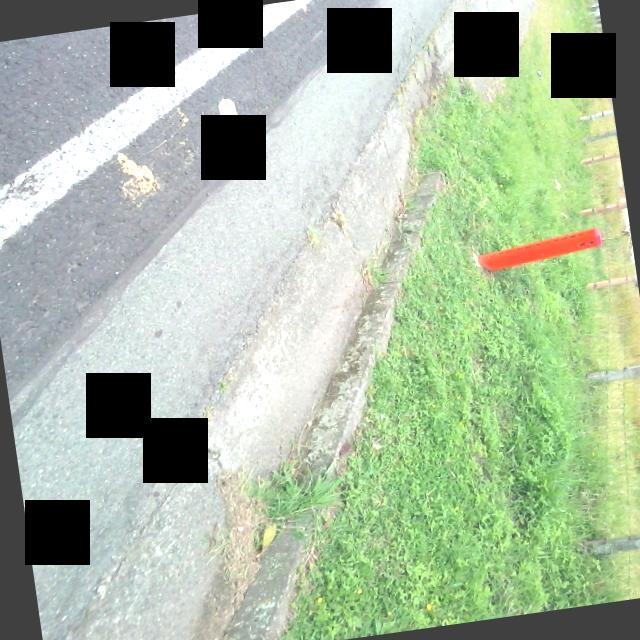DITCH: (0, 0, 640, 640), (0, 0, 630, 640), (0, 0, 597, 640)
